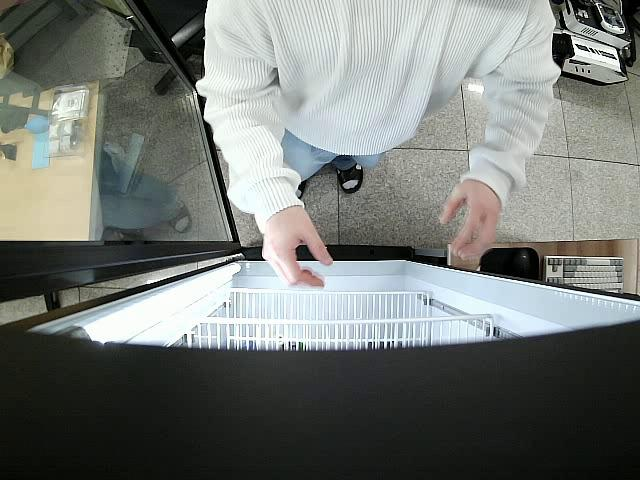00_hand: (261, 207, 334, 289), (439, 179, 501, 267)
